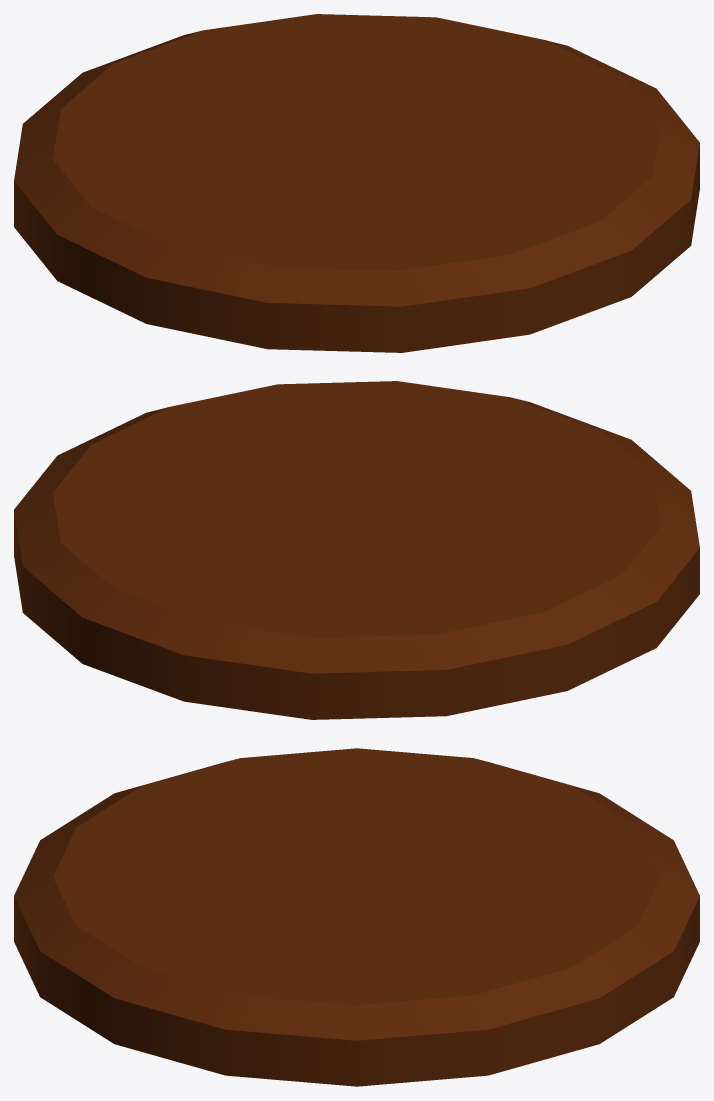
Rendered from Centr_low.fbx.
3 views of the same model, one above another, from view 1: azimuth 30°, elevation 25°; view 2: azimuth 150°, elevation 25°; view 3: azimuth 270°, elevation 25° (orthographic).
Visible parts, largest first — view 1: Centr_low; view 2: Centr_low; view 3: Centr_low.
Part boxes in pixels (<box>): Centr_low: <box>14,14,699,352</box>; Centr_low: <box>14,381,699,719</box>; Centr_low: <box>14,748,699,1086</box>.
Size of the model in its own units: 64.3 by 6.72 by 64.3.
